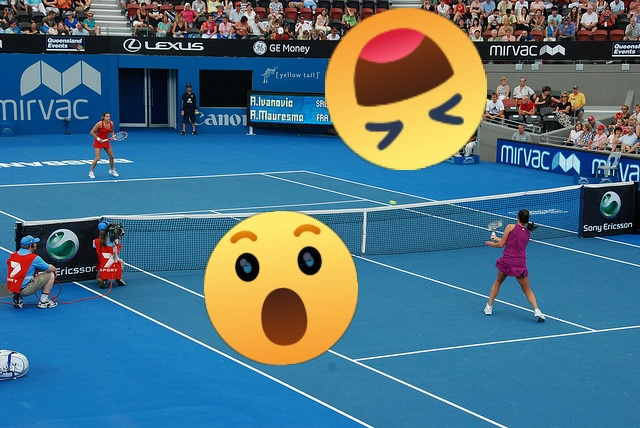haha: (325, 8, 487, 170)
wow: (204, 211, 358, 365)
